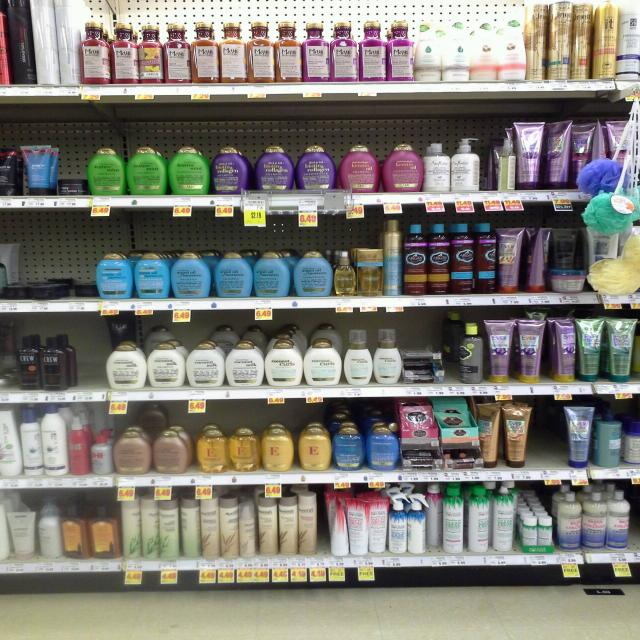unorganised: (523, 231, 552, 292), (495, 128, 520, 192), (546, 121, 570, 187), (14, 338, 43, 390), (479, 408, 504, 467), (423, 486, 444, 553), (326, 495, 349, 556), (571, 120, 594, 180), (555, 264, 589, 293), (592, 118, 609, 164)
